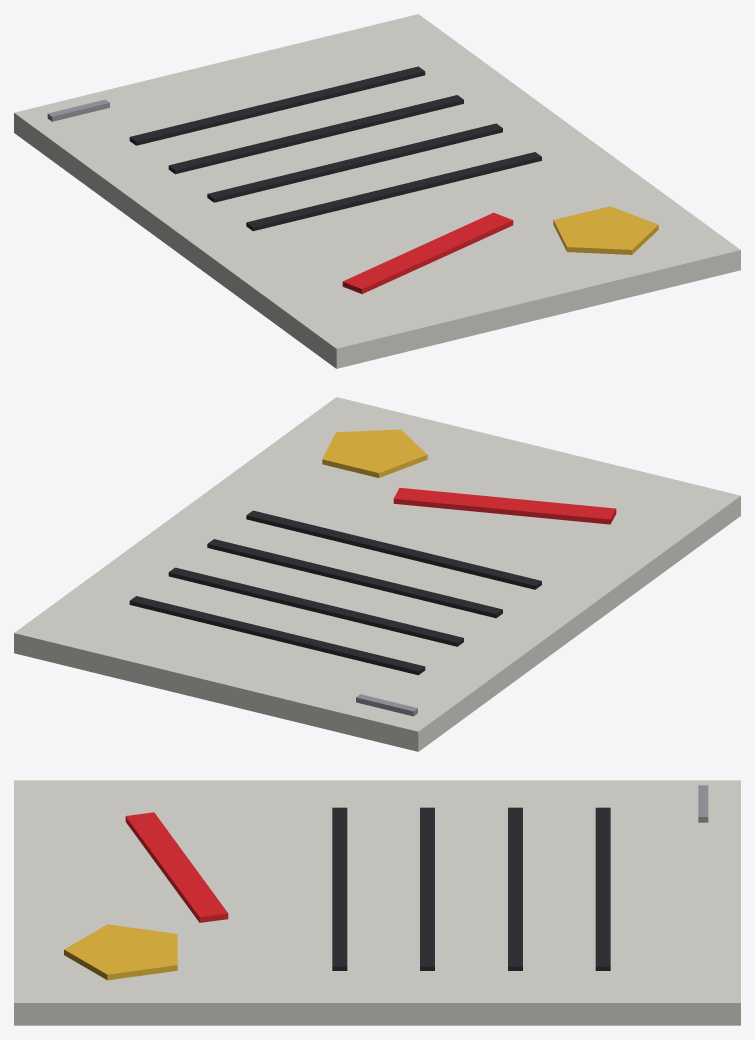
File: actor_contracts.glb
3 views of the same model, one above another, from view 1: azimuth 30°, elevation 25°; view 2: azimuth 150°, elevation 25°; view 3: azimuth 270°, elevation 25° (orthographic). The views are drawn at different scales.
Visible parts, largest first — view 1: papers_white, lines_contracts_ink (×4), star_contracts_star, crayon_contracts_crayon, staple_contracts_staple; view 2: papers_white, lines_contracts_ink (×4), crayon_contracts_crayon, star_contracts_star, staple_contracts_staple; view 3: papers_white, lines_contracts_ink (×4), star_contracts_star, crayon_contracts_crayon, staple_contracts_staple.
Boxes of the visible parts, x1,y1,x2,y2 form: papers_white: (14, 14, 740, 368); lines_contracts_ink (×4): (129, 66, 541, 231); star_contracts_star: (553, 206, 658, 254); crayon_contracts_crayon: (342, 212, 513, 293); staple_contracts_staple: (47, 99, 109, 121); papers_white: (14, 397, 740, 751); lines_contracts_ink (×4): (129, 510, 541, 675); crayon_contracts_crayon: (393, 487, 616, 524); star_contracts_star: (322, 429, 427, 477); staple_contracts_staple: (356, 694, 417, 716); papers_white: (14, 780, 740, 1025); lines_contracts_ink (×4): (332, 807, 610, 970); star_contracts_star: (64, 924, 177, 980); crayon_contracts_crayon: (125, 812, 228, 922); staple_contracts_staple: (698, 785, 708, 822).
Bounding box in the file's own units: 0.21 × 0.0125 × 0.29.
